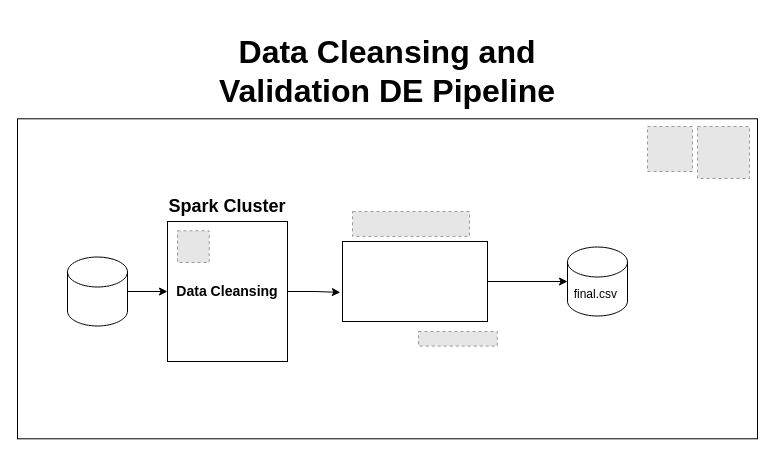
The diagram is 775 pixels wide and 457 high, and some of its shapes have lost their labels. Grey dashed boxes stand in for pictures. Each missing label, with the centre of its shape:
Anomalies-and-Ambiguous- Observations Detection Service: the point at 415,281
raw.csv: the point at 97,291
